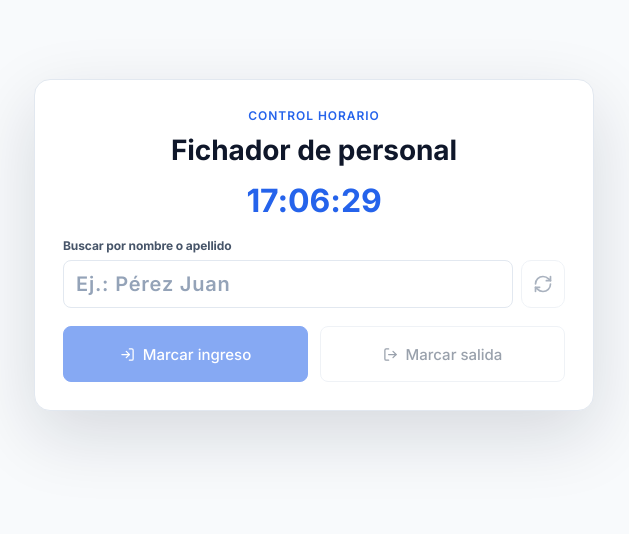
Test: TimeClockPage standalone (F1) — flujo, errores e idempotencia › 429 al consultar el estado: avisa que hay demasiados intentos
Type "Gomez" into the field labelled "Buscar por nombre o apellido".
click(288, 284); type("Gomez")  # box [63,260,513,308]
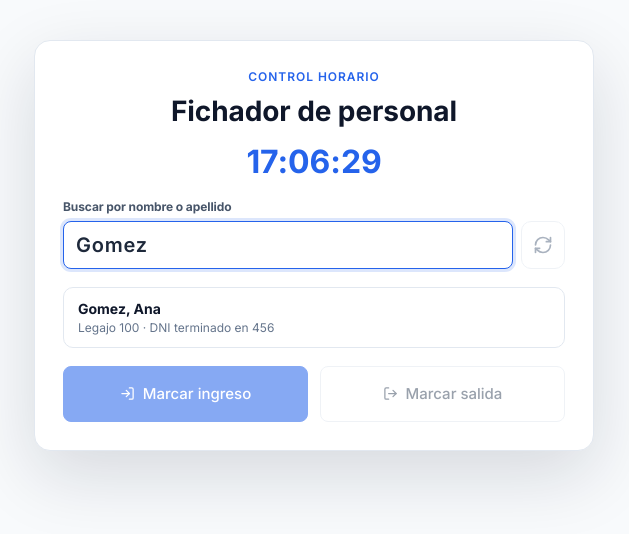
Click the text "Gomez, Ana".
click(119, 308)  # box [78,300,161,316]
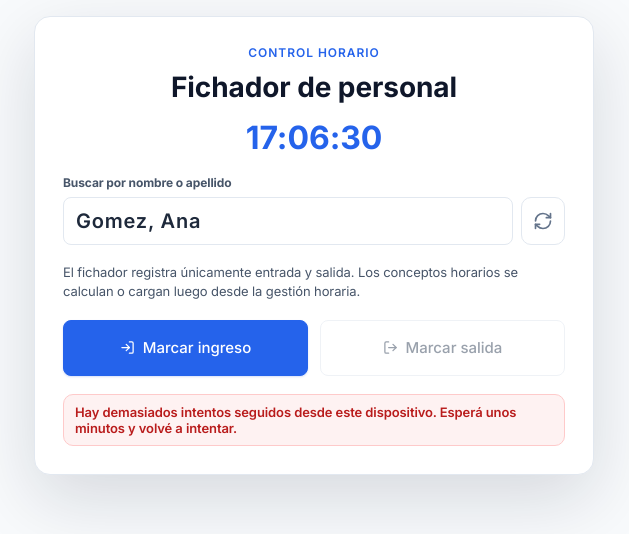
Now the text "demasiados intentos" is shown, box [75,404,516,436]
